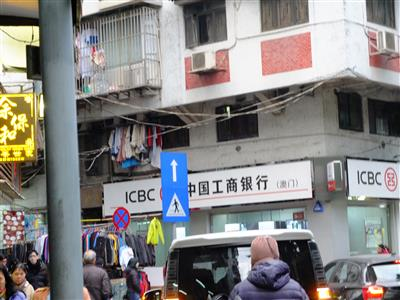oneway: (155, 149, 191, 189)
pedestrianCrossing: (159, 189, 191, 223)
